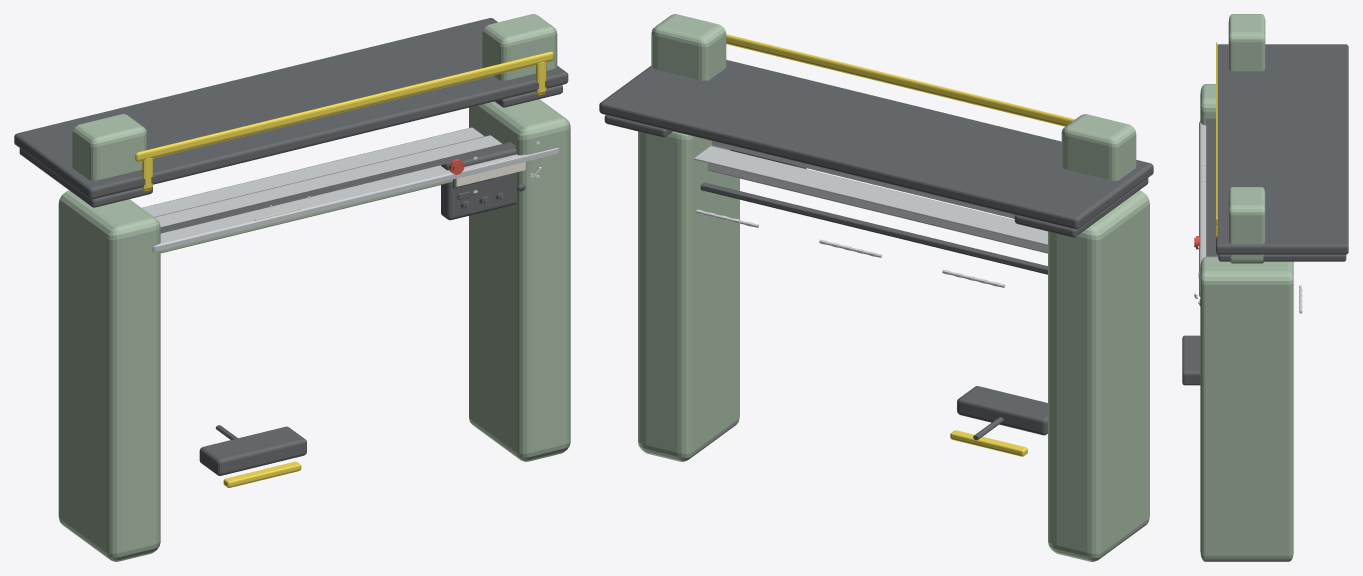
File: press_brake.glb
3 renders of one model, left to right at view 1: azimuth 30°, elevation 25°; view 2: azimuth 150°, elevation 25°; view 3: azimuth 270°, elevation 25°, orthographic. The views are drawn at different scales.
Parts seen in each view (by area): view 1: machine-shop-and-factory-hall-press-brake, brake-ram/charcoal, brake-ram/enamel; view 2: machine-shop-and-factory-hall-press-brake; view 3: machine-shop-and-factory-hall-press-brake, brake-ram/charcoal.
Part boxes in pixels (bbox=[...]): machine-shop-and-factory-hall-press-brake: bbox=[14, 14, 570, 561]; brake-ram/charcoal: bbox=[160, 142, 516, 233]; brake-ram/enamel: bbox=[160, 179, 452, 253]; machine-shop-and-factory-hall-press-brake: bbox=[599, 14, 1153, 561]; machine-shop-and-factory-hall-press-brake: bbox=[1182, 14, 1348, 561]; brake-ram/charcoal: bbox=[1206, 118, 1217, 256].
Size of the model in its own units: 153350 by 126613 by 53345.
